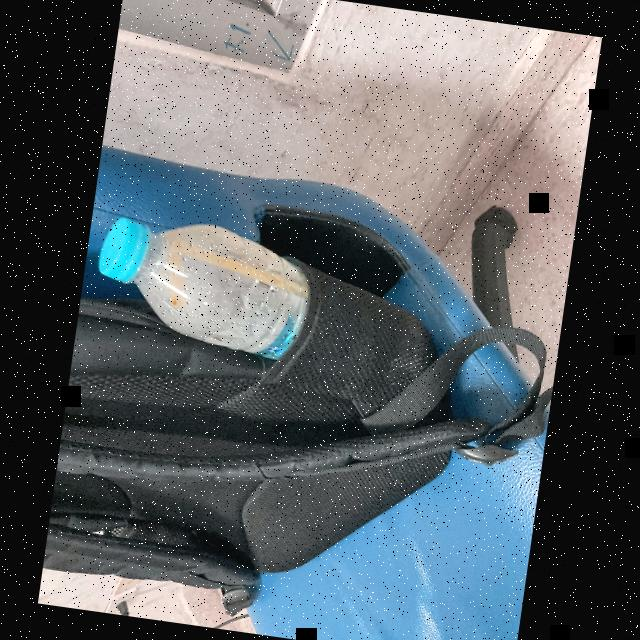plastic_bottle: (85, 206, 321, 362)
